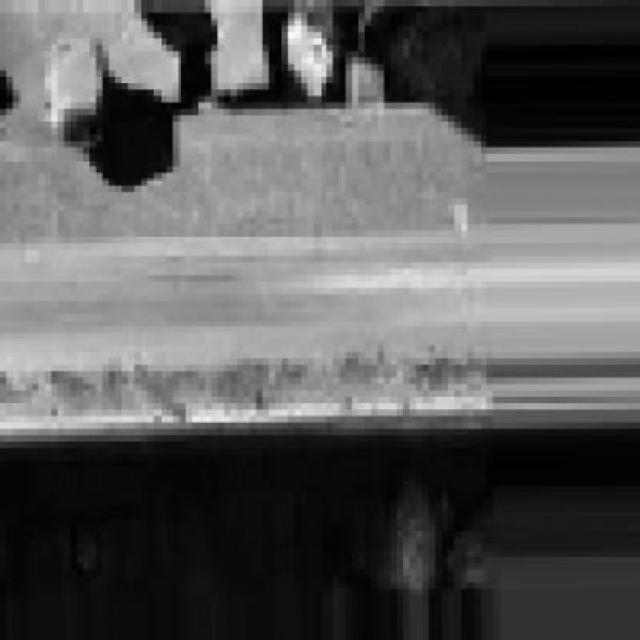defective: (6, 175, 640, 548)
